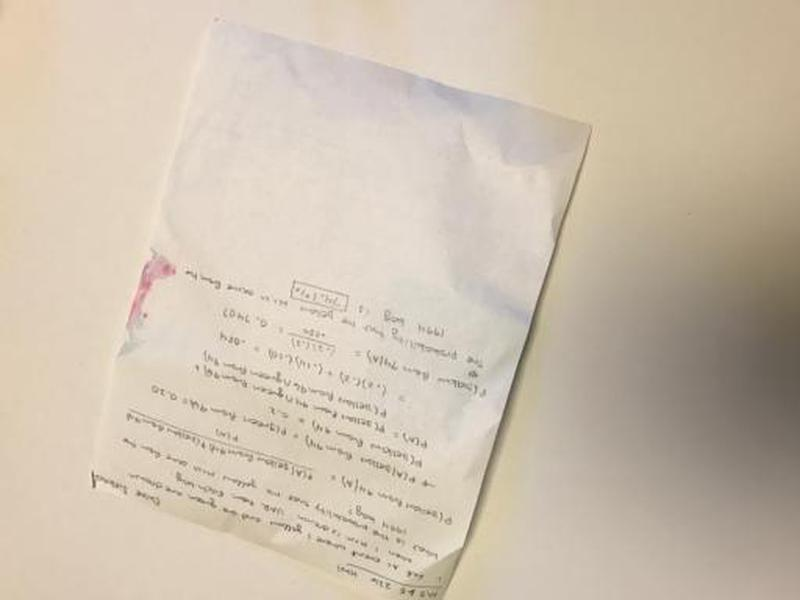paper: (82, 10, 594, 600)
